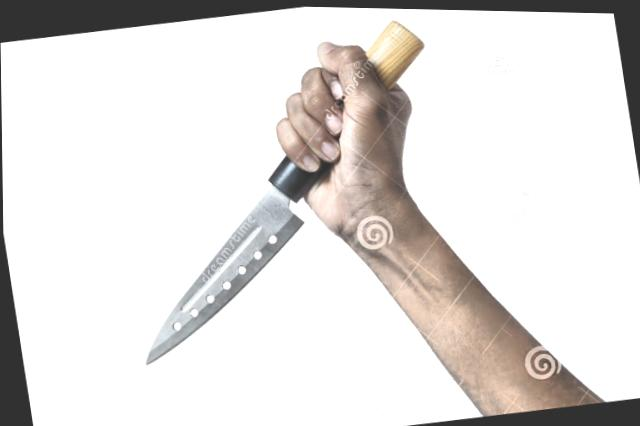knife: (99, 76, 391, 375)
